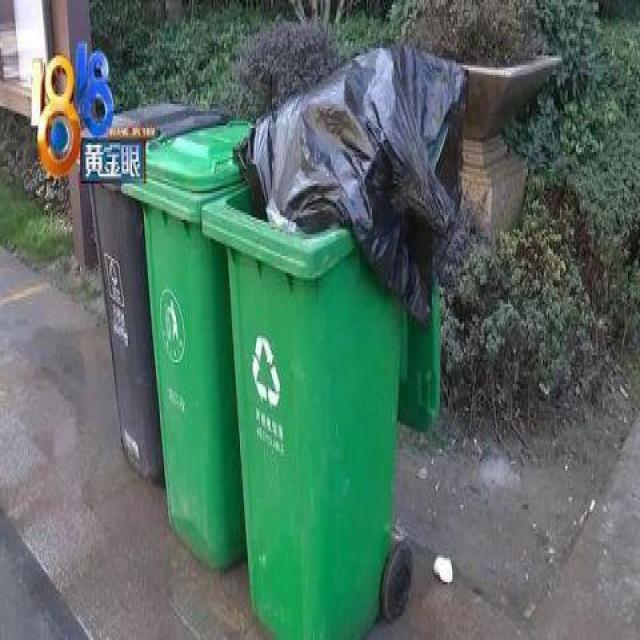garbage_bin: (117, 116, 248, 567), (81, 99, 226, 481)
overflow: (204, 50, 444, 638)
